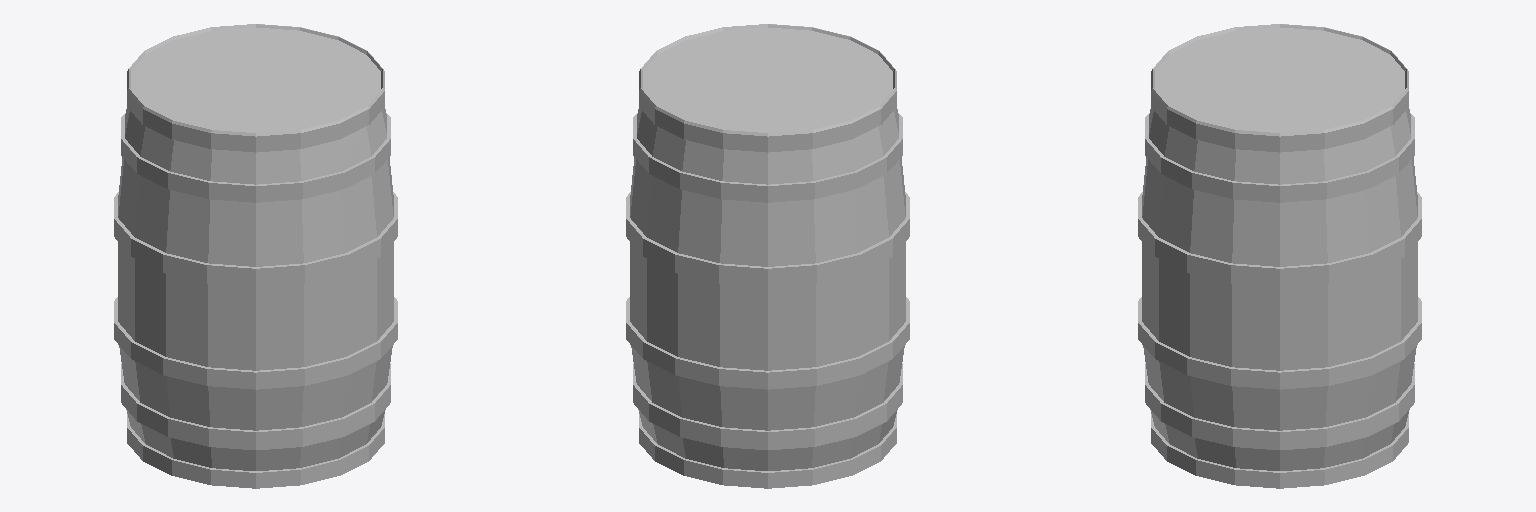
3 views of the same model, side by side, from view 1: azimuth 30°, elevation 25°; view 2: azimuth 150°, elevation 25°; view 3: azimuth 270°, elevation 25° (orthographic).
Visible parts, largest first — view 1: Handle1; view 2: Handle1; view 3: Handle1.
Boxes of the visible parts, box(x1,y1,x2,y2) form: Handle1: box(114, 24, 397, 488); Handle1: box(626, 24, 909, 488); Handle1: box(1138, 24, 1421, 488).
Size of the model in its own units: 1.05 by 1.42 by 1.03.